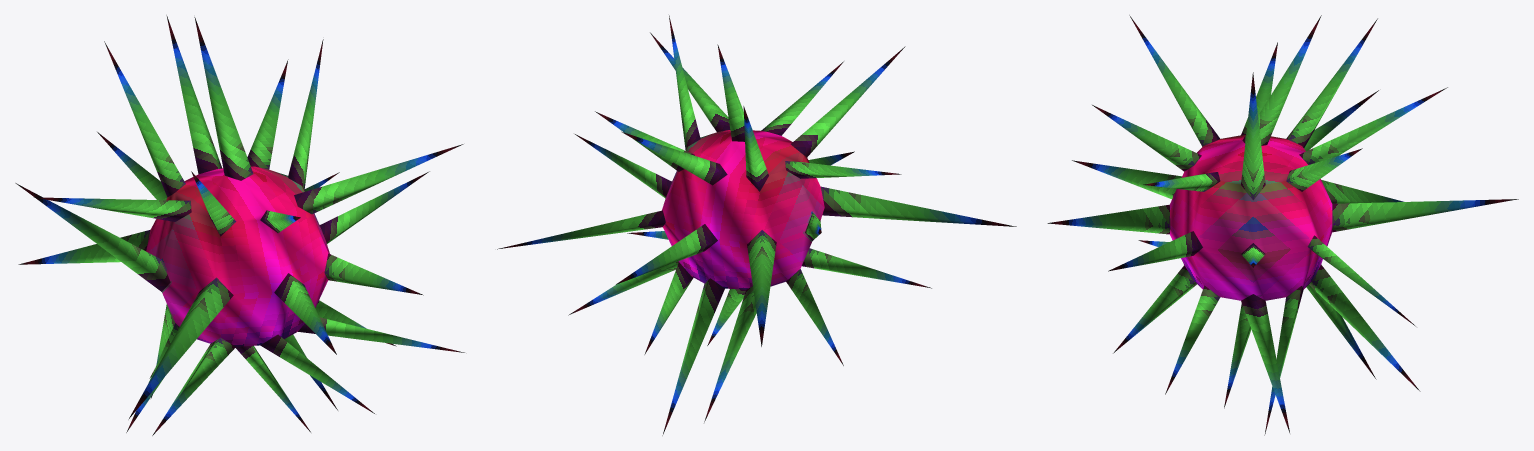
File: PODBOMB.fbx
3 renders of one model, left to right at view 1: azimuth 30°, elevation 25°; view 2: azimuth 150°, elevation 25°; view 3: azimuth 270°, elevation 25°, orthographic. The views are drawn at different scales.
Visible parts, largest first — view 1: PODBOMB; view 2: PODBOMB; view 3: PODBOMB.
Part boxes in pixels (bbox=[...]): PODBOMB: bbox=[15, 15, 464, 435]; PODBOMB: bbox=[497, 15, 1016, 435]; PODBOMB: bbox=[1047, 15, 1518, 435].
Bounding box in the file's own units: 4240 × 4092 × 4684.
Materials: 1 (1 with a texture image).
